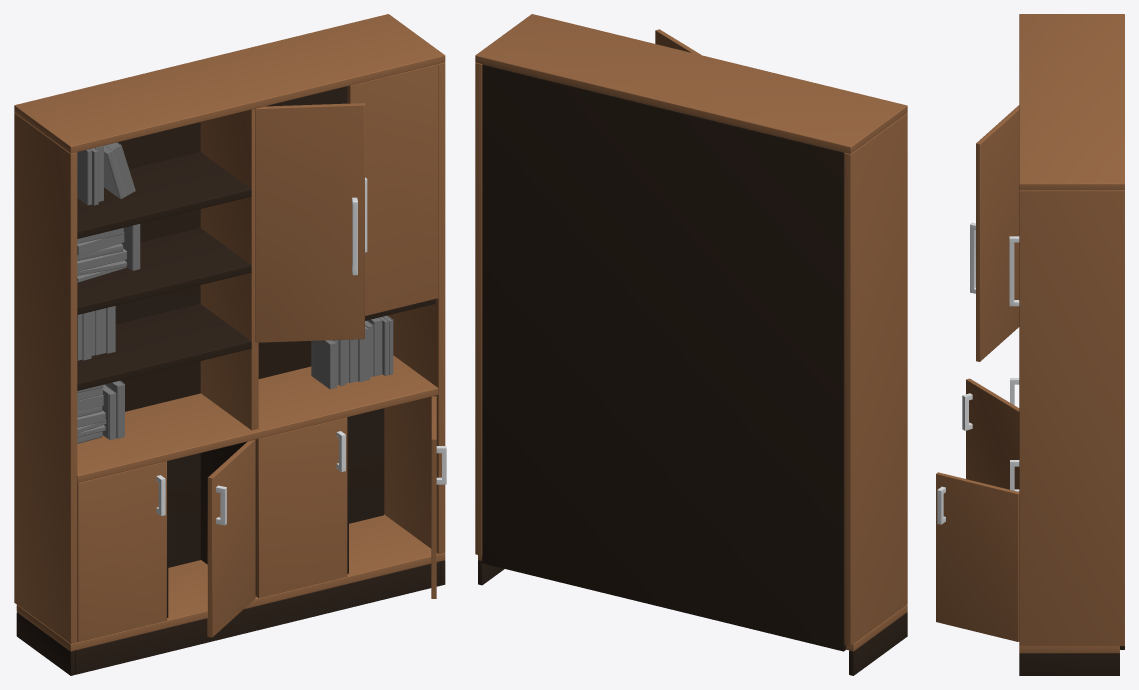
File: uploads_files_5305242_fbx.fbx
The picture shows the model from 3 angles, left to right: view 1: azimuth 30°, elevation 25°; view 2: azimuth 150°, elevation 25°; view 3: azimuth 270°, elevation 25°; orthographic projection. The views are drawn at different scales.
Parts seen in each view (by area): view 1: Box095, Box066, Box075, Box080, Box068, Box, Box076, Group002, Box067, Bm_01_book__001, Box069, Box096 (+6 smaller); view 2: Box068, Box095, Box075, Box069, Box085; view 3: Box069, Box075, Group001, Box066, Group003, Box084, Box074, Box089, Box088, Box100.
Boxes of the visible parts, <box> form: Box095: <box>14,112,77,643</box>; Box066: <box>255,103,364,342</box>; Box075: <box>14,14,445,153</box>; Box080: <box>77,152,251,390</box>; Box068: <box>115,86,384,567</box>; Box: <box>347,64,438,315</box>; Box076: <box>77,355,438,482</box>; Group002: <box>256,417,347,598</box>; Box067: <box>77,461,166,642</box>; Bm_01_book__001: <box>77,142,393,443</box>; Box069: <box>384,62,445,554</box>; Box096: <box>200,109,258,430</box>; Box068: <box>482,64,846,651</box>; Box095: <box>844,113,907,645</box>; Box075: <box>475,14,907,153</box>; Box069: <box>475,62,482,555</box>; Box085: <box>849,612,907,675</box>; Box069: <box>1019,190,1124,646</box>; Box075: <box>1019,14,1124,190</box>; Group001: <box>936,472,1019,641</box>; Box066: <box>976,105,1019,361</box>; Group003: <box>966,378,1019,489</box>; Box084: <box>1019,653,1119,675</box>; Box074: <box>1019,646,1119,653</box>; Box089: <box>1009,236,1019,306</box>; Box088: <box>970,222,975,293</box>; Box100: <box>962,393,972,430</box>.
Size of the model in its own units: 160 by 216 by 75.14.
